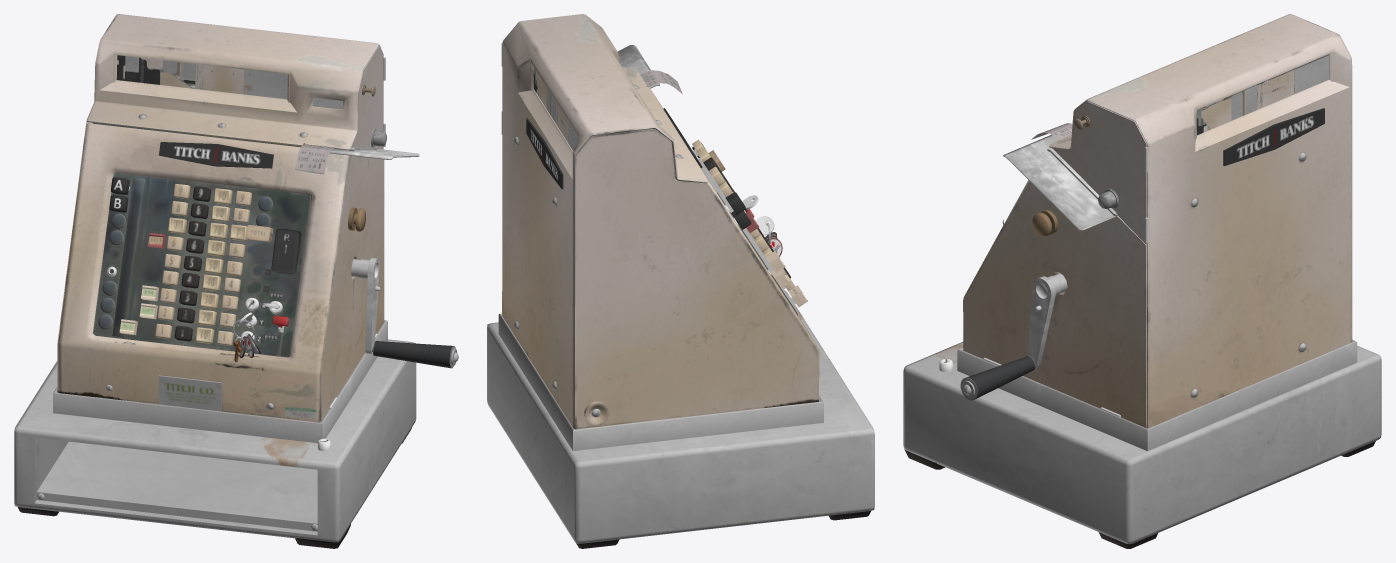
File: cash_register_only.obj
The picture shows the model from 3 angles, left to right: view 1: azimuth 30°, elevation 25°; view 2: azimuth 150°, elevation 25°; view 3: azimuth 270°, elevation 25°; orthographic projection. The views are drawn at different scales.
Parts seen in each view (by area): view 1: CashRegister_01_body_Cash_register; view 2: CashRegister_01_body_Cash_register; view 3: CashRegister_01_body_Cash_register.
Boxes of the visible parts, x1,y1,x2,y2 form: CashRegister_01_body_Cash_register: (14,14,458,548); CashRegister_01_body_Cash_register: (487,14,874,548); CashRegister_01_body_Cash_register: (903,14,1381,548).
Size of the model in its own units: 3.24 by 3.11 by 3.24.
